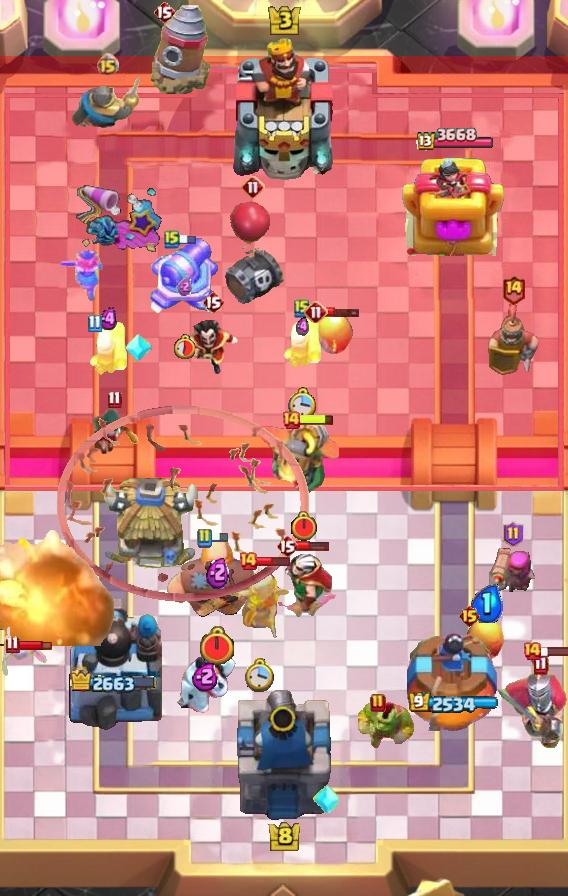balloon: (164, 534, 270, 624)
barbarian: (0, 642, 48, 678)
earthquake: (485, 303, 541, 379)
electro-spirit: (469, 584, 503, 623), (193, 661, 219, 691), (207, 556, 230, 588), (99, 307, 117, 331), (177, 276, 192, 295), (296, 317, 308, 337)
elixir: (198, 625, 236, 666), (244, 656, 275, 692), (288, 387, 316, 419), (290, 511, 318, 542), (173, 334, 195, 359)
emote: (299, 413, 335, 427), (325, 306, 361, 318), (256, 555, 291, 567), (16, 639, 51, 651), (296, 540, 329, 552), (540, 645, 568, 657), (178, 233, 198, 245), (210, 532, 230, 543)
firecracker: (71, 76, 143, 131)
flying-machine: (357, 700, 417, 754)
hog: (314, 312, 354, 356), (466, 617, 506, 661)
hog-rider: (57, 249, 105, 303)
king-tower: (228, 35, 340, 181), (232, 686, 336, 826)
lumberjack: (185, 318, 241, 376)
magic-archer: (147, 0, 213, 98)
night-witch: (253, 420, 355, 496)
pad_2: (313, 782, 341, 816), (125, 332, 153, 364)
poison: (216, 565, 304, 649)
prince: (99, 478, 201, 574)
queen-tower: (401, 156, 505, 256), (407, 633, 499, 731)
rage: (173, 651, 237, 717)
royal-recruit: (146, 237, 222, 321)
royal-recruit-evolution: (220, 200, 286, 304)
selected: (70, 670, 158, 696), (409, 692, 500, 715), (414, 127, 494, 153)
skeleton-barrel: (57, 404, 309, 602)
skeleton-king: (267, 551, 341, 621)
tesla: (90, 405, 138, 457)
text: (502, 275, 527, 306), (241, 175, 265, 199), (304, 300, 328, 324), (459, 604, 482, 628), (504, 521, 525, 547), (97, 53, 120, 76), (153, 0, 175, 24), (202, 290, 224, 314), (276, 534, 298, 558), (281, 410, 301, 430), (238, 551, 258, 571), (522, 641, 542, 661), (164, 229, 180, 249), (294, 298, 310, 318), (196, 528, 212, 548), (370, 693, 386, 713), (106, 391, 121, 410), (5, 635, 20, 653), (87, 315, 101, 333)
tombstone: (489, 542, 537, 598), (281, 312, 323, 370), (87, 319, 129, 377)
tower-bar: (66, 595, 162, 731)
valkyrie: (0, 518, 128, 646)
wall-breaker-evolution: (496, 647, 568, 749)
